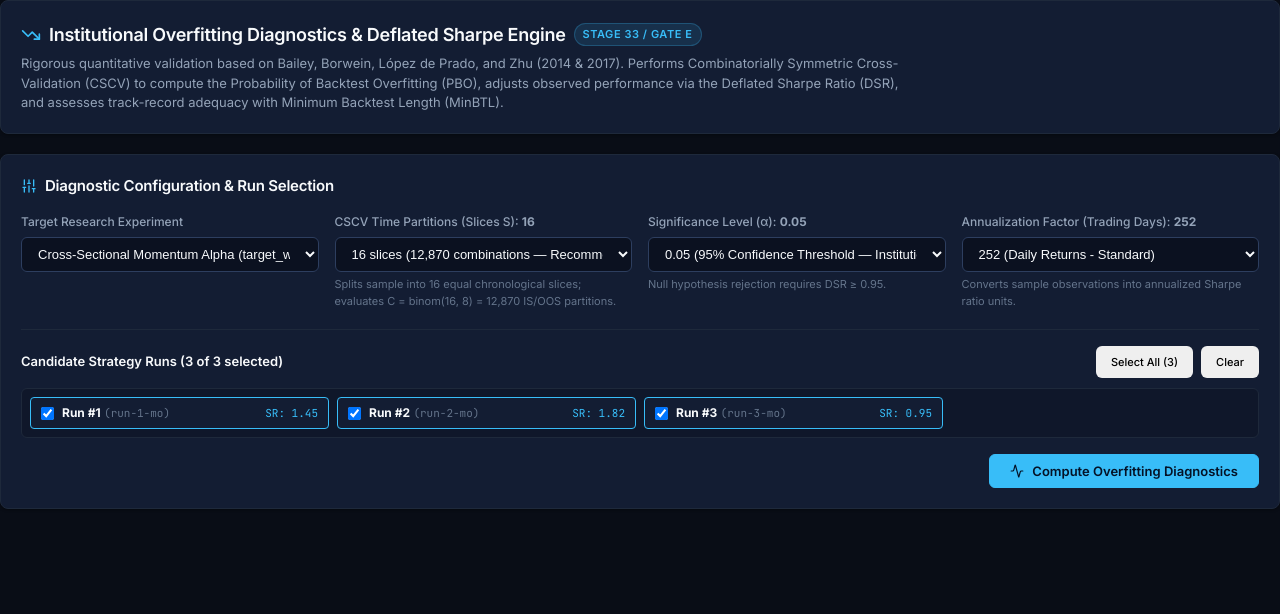
Test: OverfittingDiagnosticsStudio & Overfitting API › handles backend API error (e.g. 422 unprocessable entity) gracefully without fabricating fake results
Step 1. Click the button "Compute Overfitting Diagnostics" → (1124, 471), box x1=989 y1=454 x2=1259 y2=488
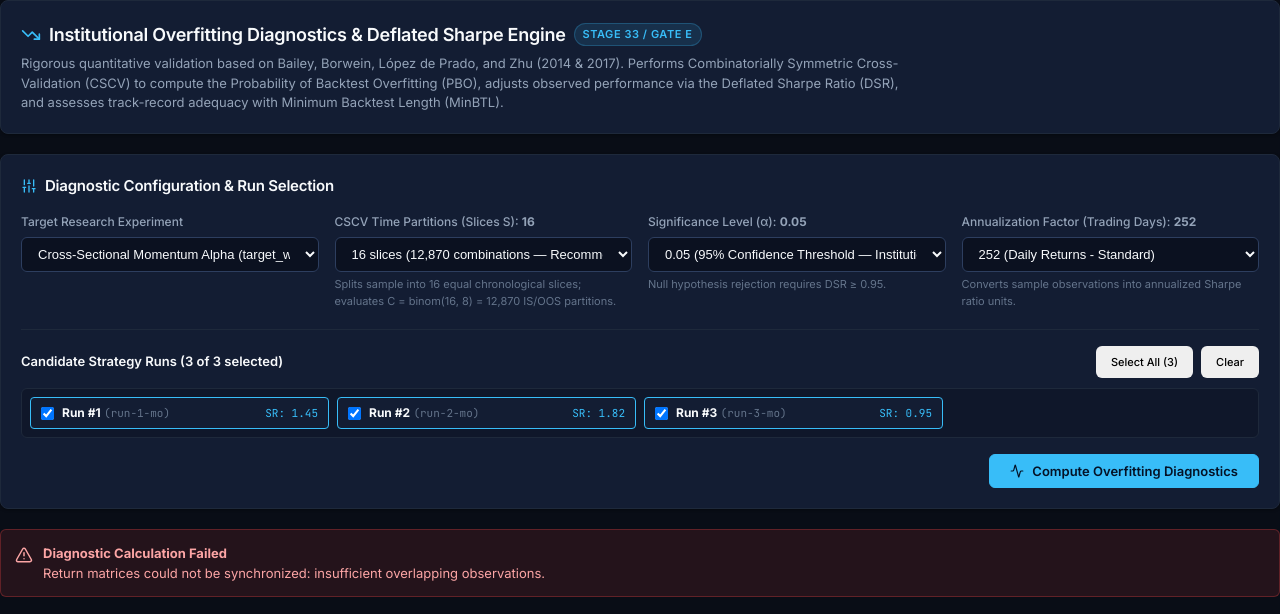
Expected: the text "Diagnostic Calculation Failed" is shown, x1=43 y1=545 x2=227 y2=561
Expected: the text "Return matrices could not be synchronized: insufficient overlapping observations" is shown, x1=43 y1=565 x2=545 y2=581
